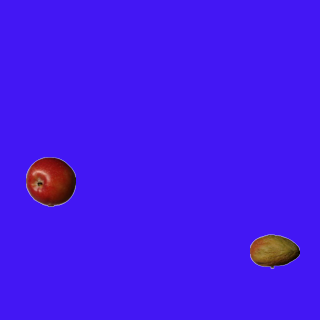Apple Braeburn: (25, 156, 75, 206)
Papaya: (249, 226, 299, 276)
